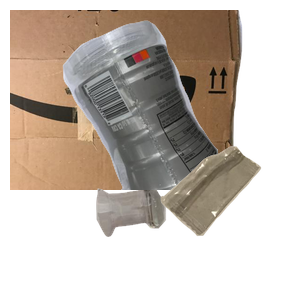cardboard: (10, 10, 245, 190)
glass: (94, 184, 253, 300)
plastic: (60, 18, 300, 198)
trash: (158, 144, 300, 300)
